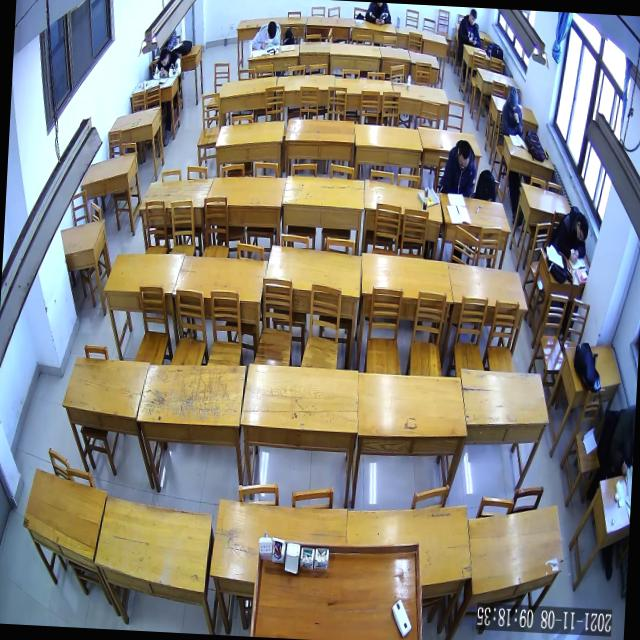bow: (251, 19, 283, 53)
down: (457, 140, 472, 172), (574, 214, 590, 244), (508, 132, 528, 150), (507, 86, 520, 113), (158, 47, 170, 69), (266, 20, 278, 42), (468, 8, 478, 27)
sit: (438, 137, 479, 202), (549, 204, 591, 265), (500, 85, 526, 139), (152, 44, 182, 82), (457, 7, 483, 49)
